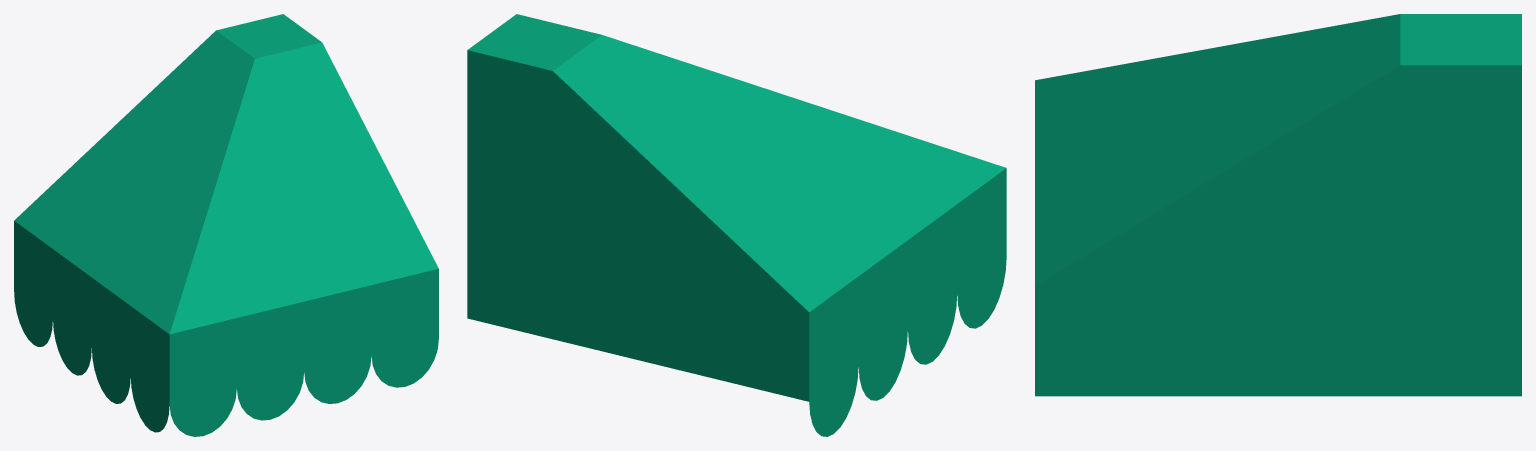
File: awning2.obj
3 views of the same model, side by side, from view 1: azimuth 30°, elevation 25°; view 2: azimuth 150°, elevation 25°; view 3: azimuth 270°, elevation 25° (orthographic). The views are drawn at different scales.
Parts seen in each view (by area): view 1: mergedBlocks; view 2: mergedBlocks; view 3: mergedBlocks.
Part boxes in pixels (x1,y1,x2,y2): mergedBlocks: [14, 14, 438, 436]; mergedBlocks: [467, 14, 1006, 436]; mergedBlocks: [1035, 14, 1521, 396].
Size of the model in its own units: 0.4 by 0.3561 by 0.4.
